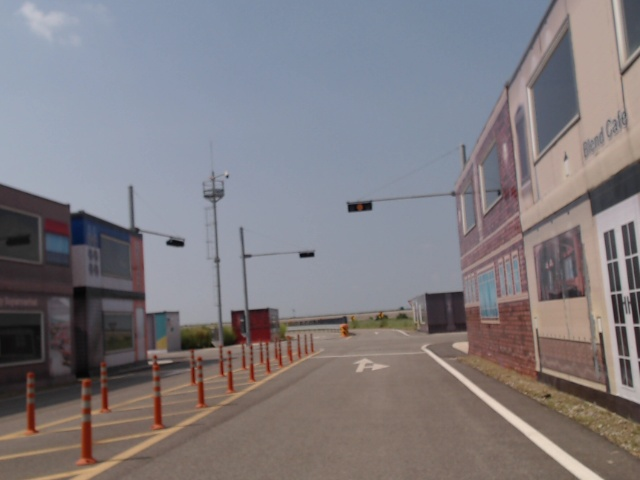orange_3: (348, 200, 372, 212)
